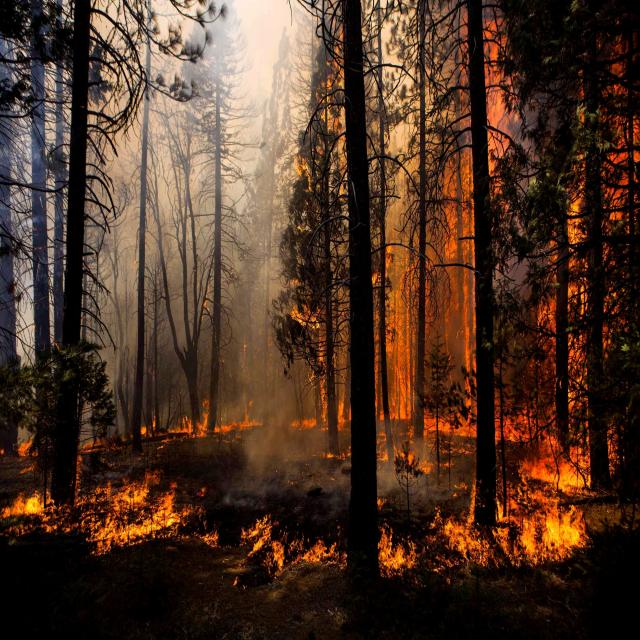Fire: (278, 0, 640, 432), (0, 398, 640, 586)
